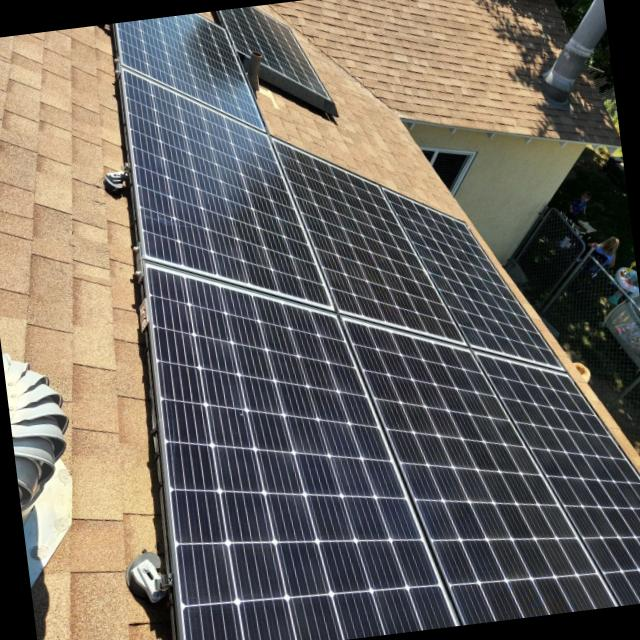no faulty: (275, 146, 640, 624), (143, 276, 452, 640), (121, 74, 337, 301), (115, 13, 262, 124)
